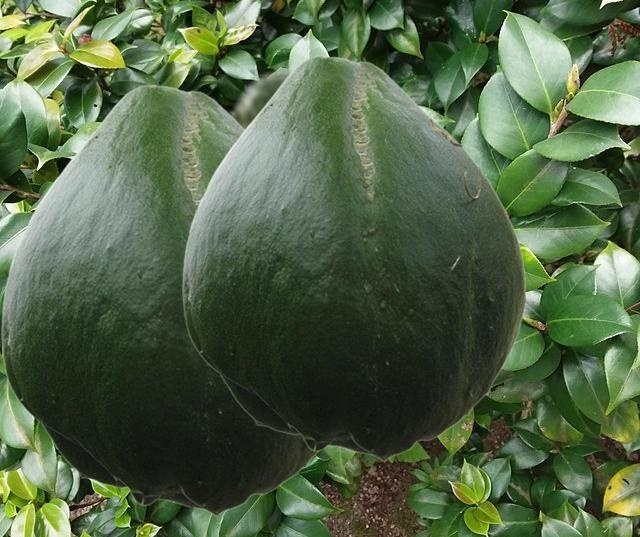sayote: (1, 84, 327, 516), (182, 55, 525, 461), (222, 68, 293, 126)
